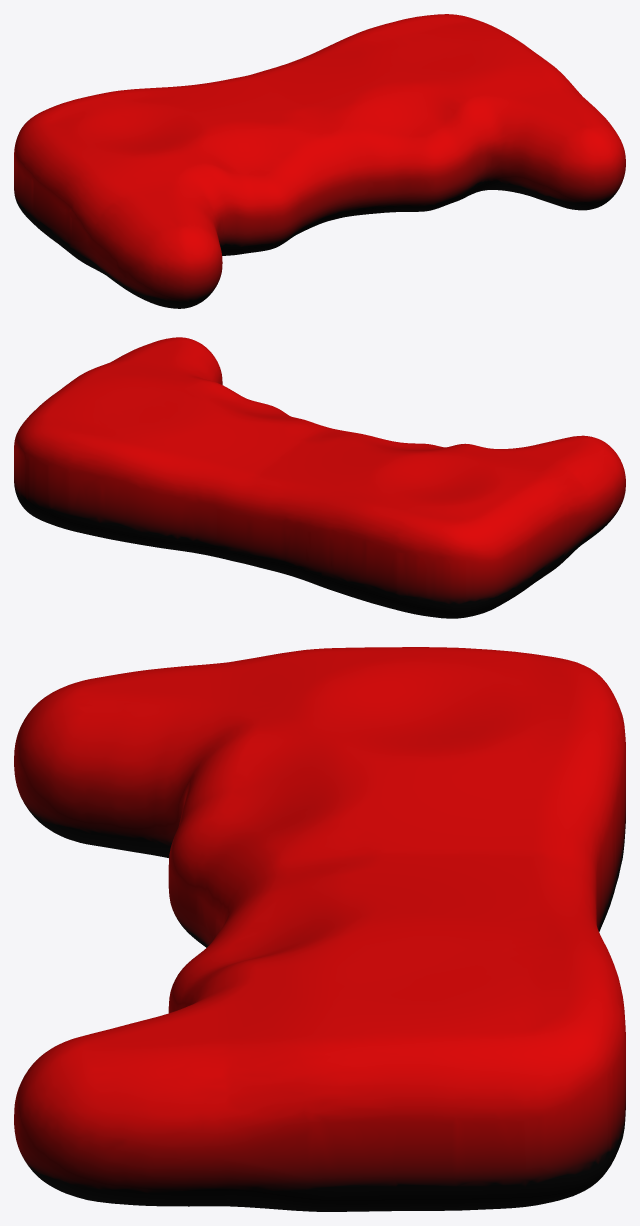
Rendered from ds3_shell.glb.
The picture shows the model from 3 angles, top to bottom: view 1: azimuth 30°, elevation 25°; view 2: azimuth 150°, elevation 25°; view 3: azimuth 270°, elevation 25°; orthographic projection. The views are drawn at different scales.
Parts seen in each view (by area): view 1: geometry_0; view 2: geometry_0; view 3: geometry_0.
Boxes of the visible parts, box(x1,y1,x2,y2) form: geometry_0: box(14, 14, 625, 308); geometry_0: box(14, 337, 625, 618); geometry_0: box(14, 647, 625, 1211).
Size of the model in its own units: 0.1546 by 0.028 by 0.0908.
